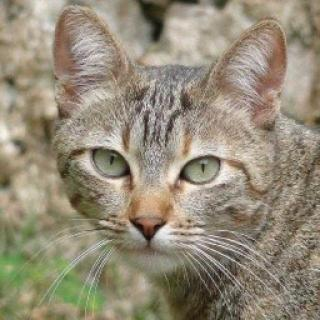cat: (48, 11, 288, 281)
nose: (129, 185, 172, 244)
